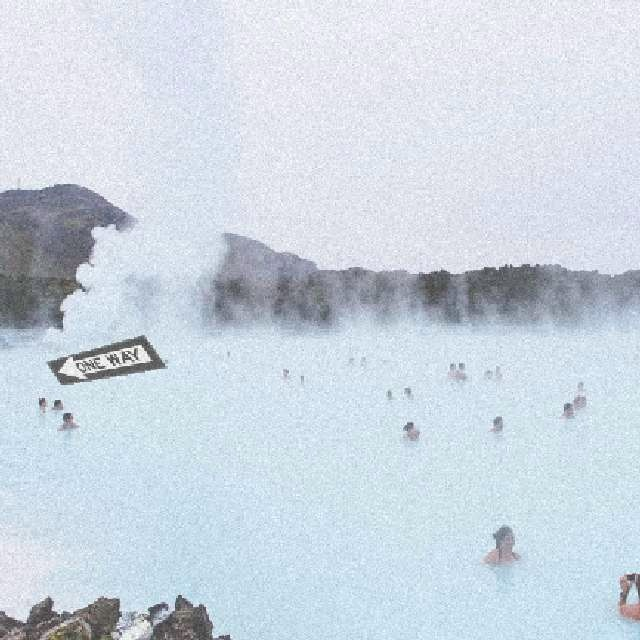ONE_WAY_ left: (44, 333, 166, 384)
